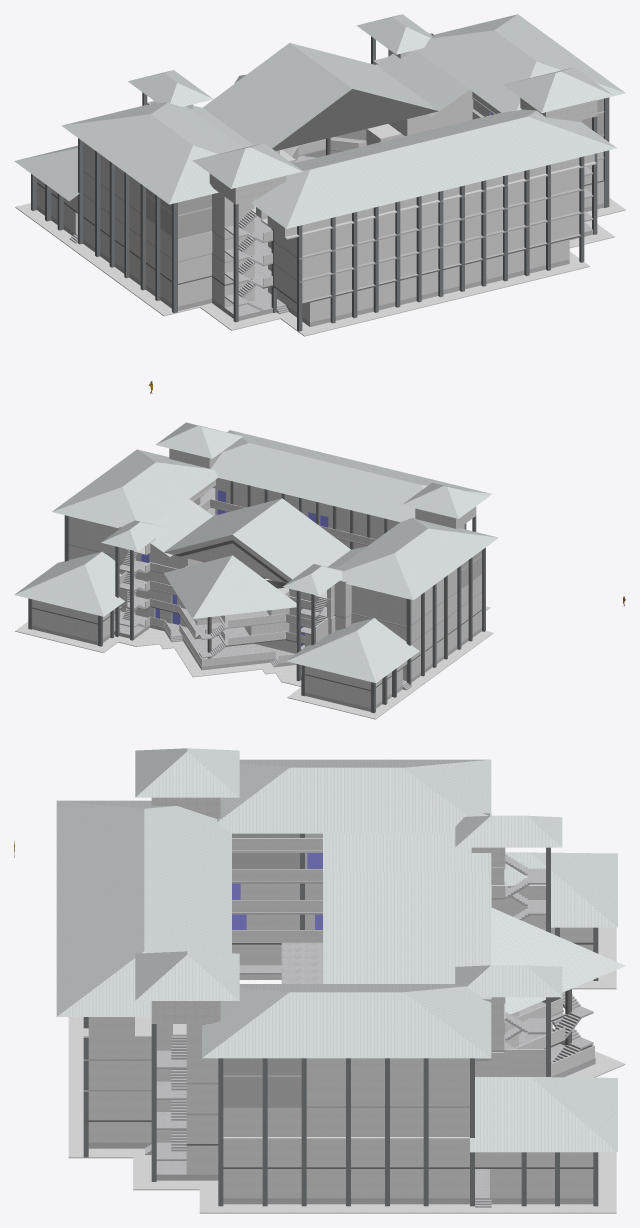
Rendered from Annex 1.glb.
3 views of the same model, one above another, from view 1: azimuth 30°, elevation 25°; view 2: azimuth 150°, elevation 25°; view 3: azimuth 270°, elevation 25° (orthographic). The views are drawn at different scales.
Visible parts, largest first — view 1: Roof wing#1, Roof wing (×2), object 155, Column#2 (×13), Roof tanki air (×2), object 4, Column#1 (×8), Roof tanki air#1, object 12, object 65, object 191, object 107 (+33 smaller); view 2: Roof wing (×2), object 155, Roof wing#1, object 71, object 4, Roof tanki air (×2), object 70, object 12, Roof tanki air#1, object 50, object 191, object 114 (+26 smaller); view 3: Roof wing (×2), Roof wing#1, object 155, Roof tanki air (×2), object 4, object 70, Roof tanki air#1, object 192, object 71, Column#1 (×7), object 5, object 12 (+38 smaller).
Part boxes in pixels (x1,y1,x2,y2): Roof wing#1: (251, 109, 616, 228); Roof wing (×2): (61, 14, 625, 204); object 155: (203, 43, 438, 151); Column#2 (×13): (233, 116, 597, 331); Roof tanki air (×2): (192, 67, 613, 204); object 4: (15, 198, 625, 336); Column#1 (×8): (78, 97, 609, 312); Roof tanki air#1: (128, 14, 432, 106); object 12: (37, 203, 604, 326); object 65: (268, 249, 438, 302); object 191: (377, 50, 472, 117); object 107: (273, 203, 438, 256); Roof wing (×2): (52, 449, 498, 600); object 155: (164, 498, 350, 618); Roof wing#1: (211, 430, 491, 522); object 71: (286, 618, 419, 682); object 4: (15, 577, 493, 719); Roof tanki air (×2): (156, 422, 488, 528); object 70: (14, 551, 124, 616); object 12: (32, 578, 481, 711); Roof tanki air#1: (101, 520, 342, 595); object 50: (120, 589, 420, 689); object 191: (150, 499, 212, 557); object 114: (351, 574, 457, 626); Roof wing (×2): (202, 759, 491, 1058); Roof wing#1: (56, 800, 231, 1016); object 155: (323, 872, 625, 1014); Roof tanki air (×2): (135, 748, 239, 1023); object 4: (68, 927, 625, 1213); object 70: (470, 1077, 617, 1152); Roof tanki air#1: (455, 815, 562, 997); object 192: (323, 833, 491, 872); object 71: (504, 852, 617, 927); Column#1 (×7): (218, 1058, 474, 1206); object 5: (223, 1169, 423, 1198); object 12: (88, 965, 595, 1204).
Bounding box in the file's own units: 76.2 × 21.21 × 55.07.
Materials: 14 (4 with a texture image).
